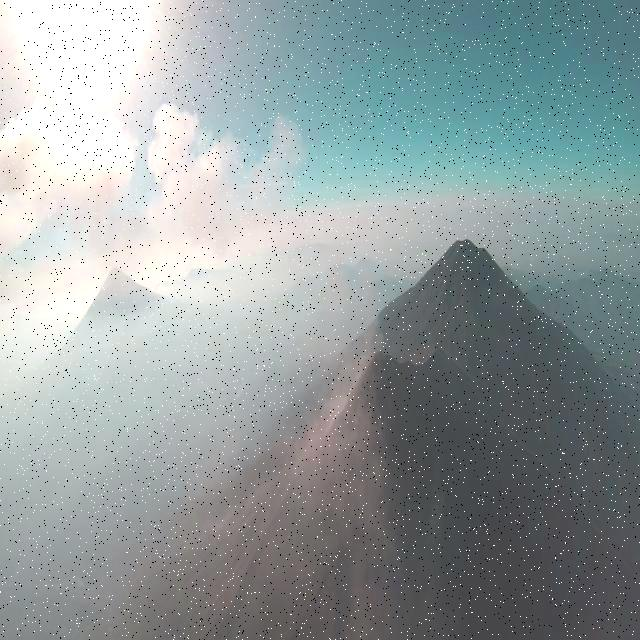Plume: (145, 95, 308, 237), (0, 95, 135, 227)
Summit: (362, 338, 414, 381)
